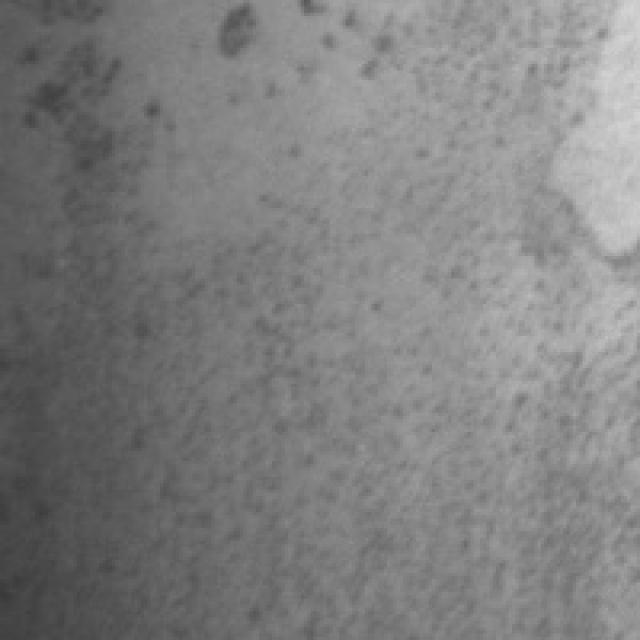pitted_surface: (22, 22, 400, 624), (362, 3, 640, 627)
